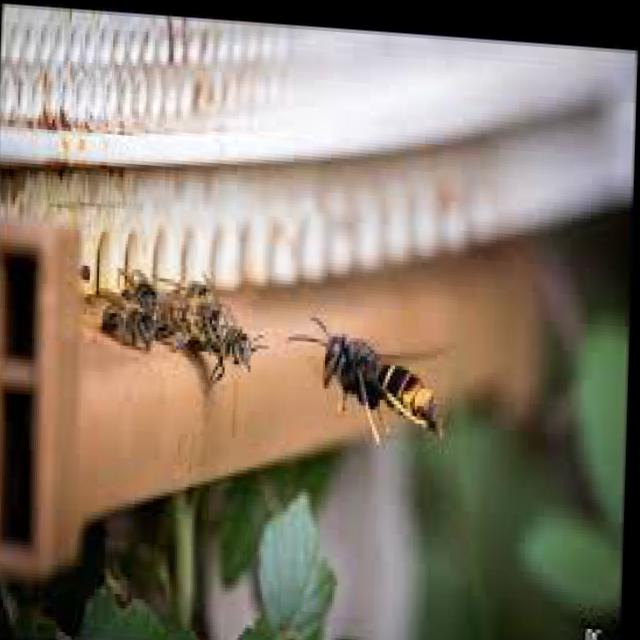Vespa Velutina: (285, 306, 458, 463)
